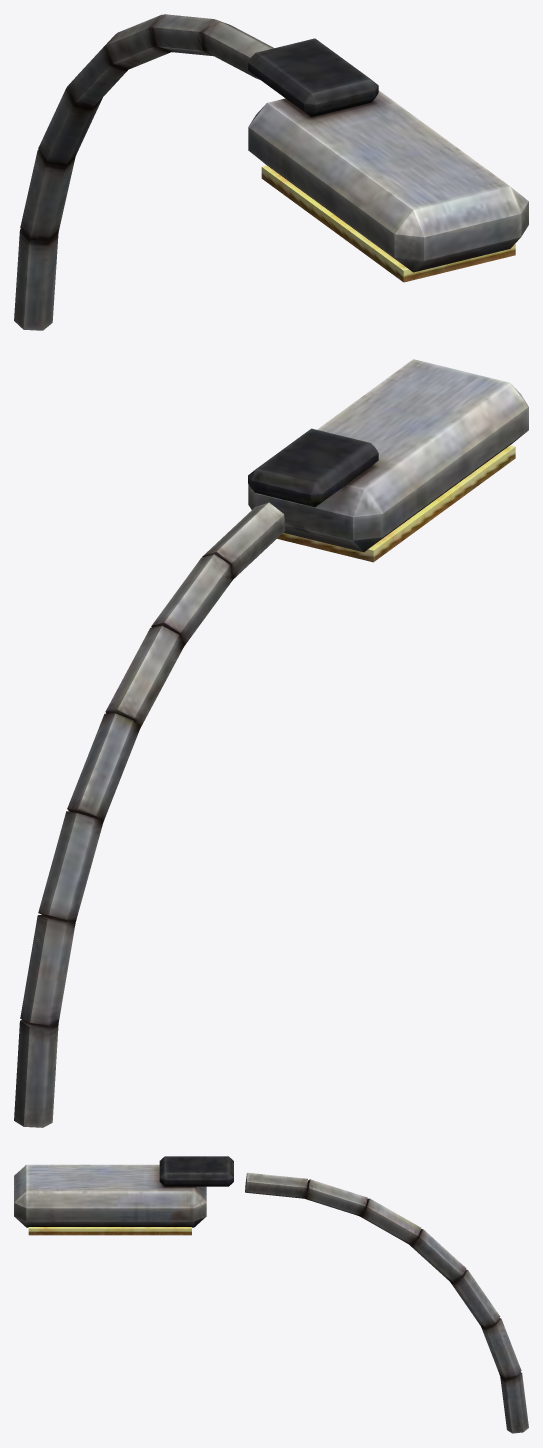
Rendered from lamp_head.glb.
3 renders of one model, top to bottom at view 1: azimuth 30°, elevation 25°; view 2: azimuth 150°, elevation 25°; view 3: azimuth 270°, elevation 25°, orthographic. The views are drawn at different scales.
Visible parts, largest first — view 1: lamp_head; view 2: lamp_head; view 3: lamp_head.
Part boxes in pixels (box(x1,y1,x2,y2)): lamp_head: box(14, 14, 528, 330); lamp_head: box(14, 359, 528, 1127); lamp_head: box(14, 1156, 528, 1433).
Bounding box in the file's own units: 0.36 × 1.19 × 2.08.
3 materials, 3 textured.
